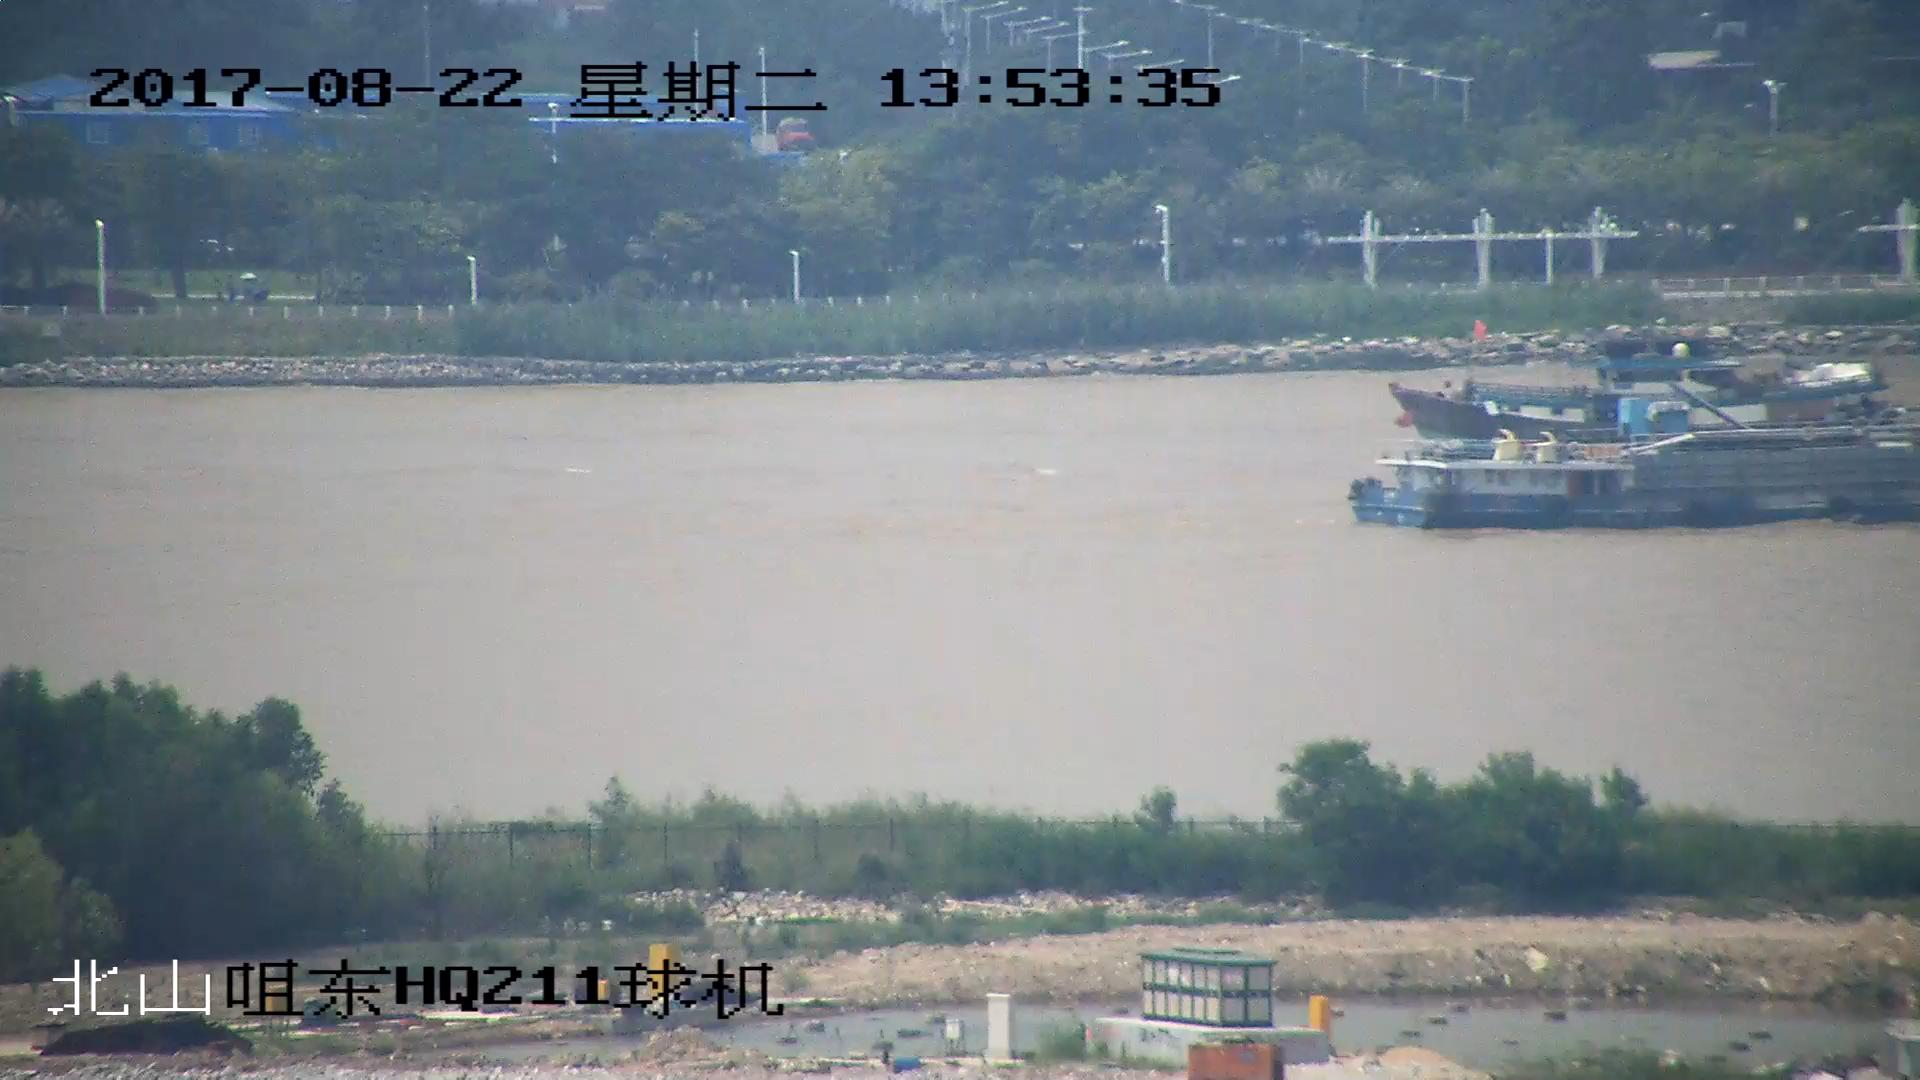fishing boat: (1385, 322, 1891, 444)
general cargo ship: (1351, 424, 1920, 527)
